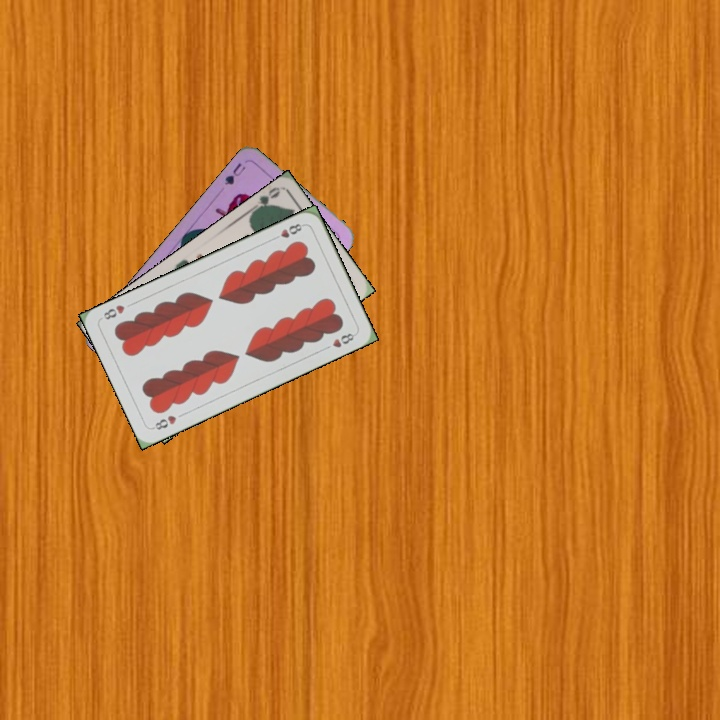GO: (246, 183, 283, 215)
GU: (220, 158, 248, 188)
H8: (268, 219, 307, 243), (148, 411, 179, 432)
